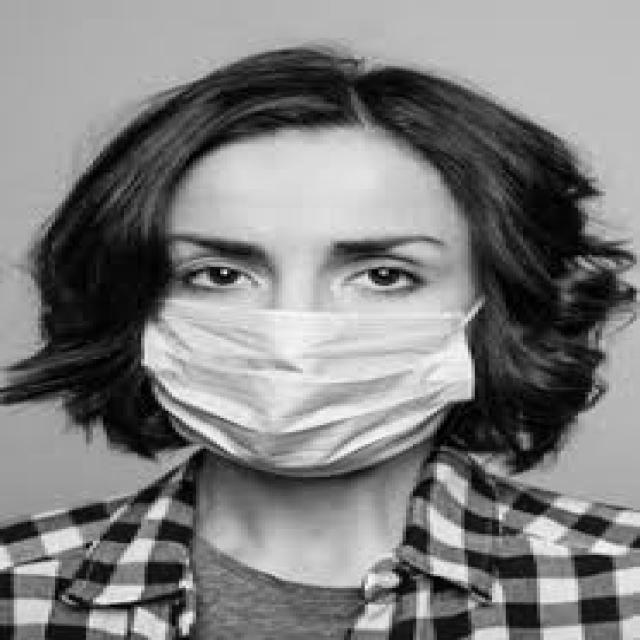fake: (108, 282, 531, 514)
real: (157, 122, 487, 506)
